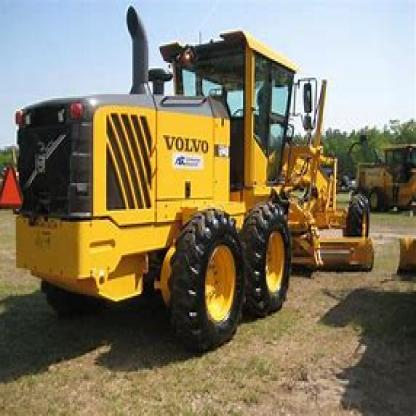bull_dozer/loader/grader: (18, 11, 381, 353)
